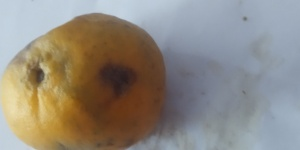BAD: (1, 10, 174, 150)
